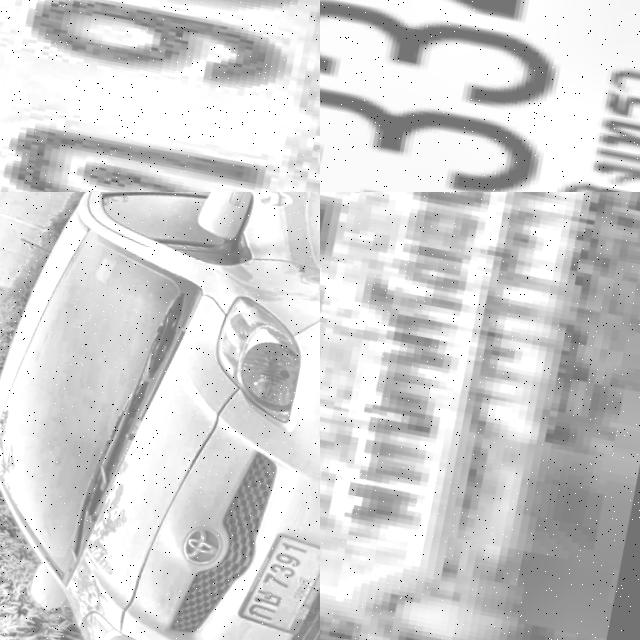license-plate: (320, 192, 640, 640), (0, 0, 320, 192), (320, 0, 640, 192), (230, 524, 320, 640)
